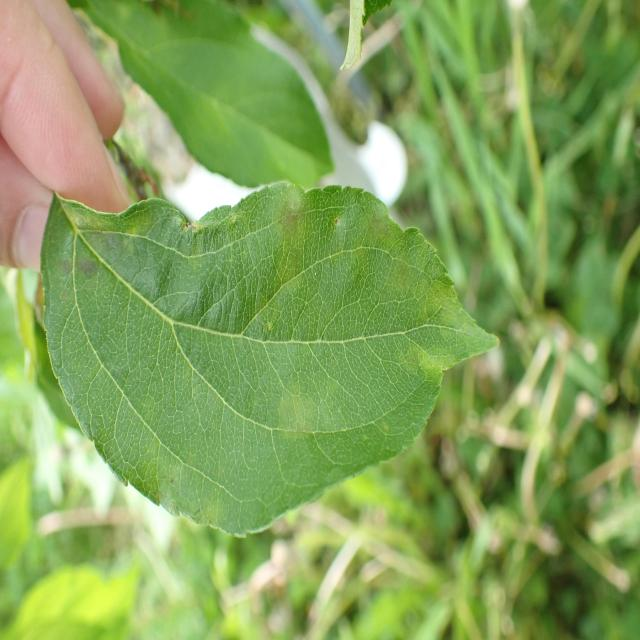scab: (50, 164, 468, 540)
